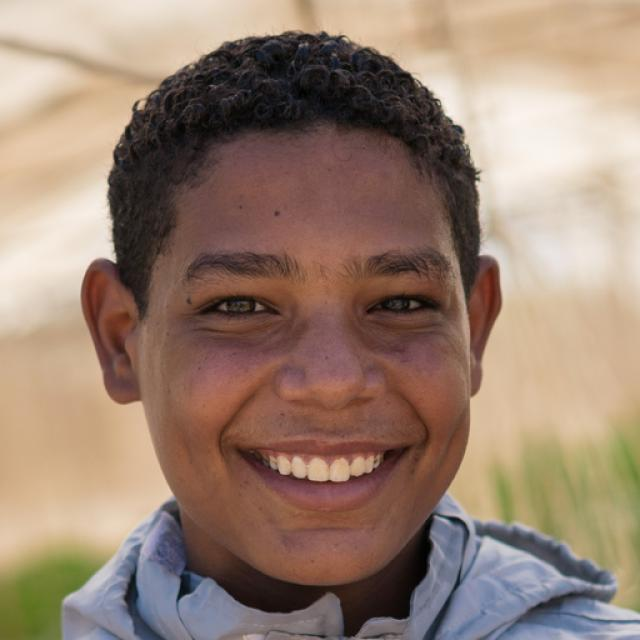happy: (138, 132, 472, 588)
